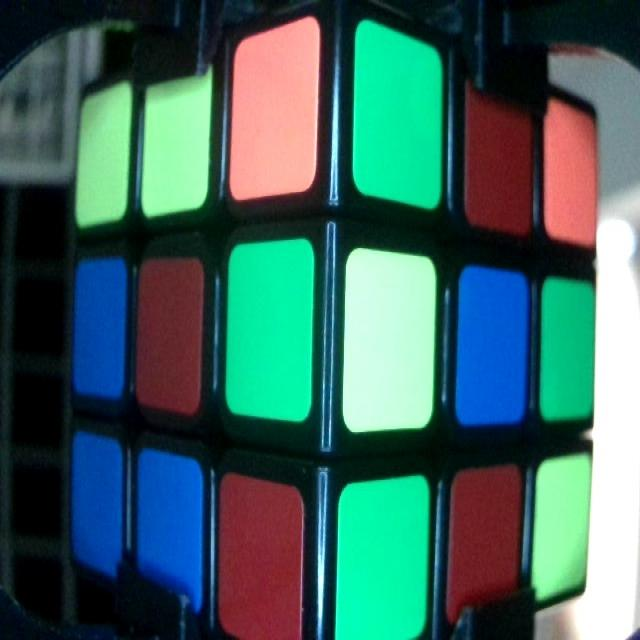b: (464, 271, 526, 421), (138, 455, 200, 598), (75, 441, 119, 568), (77, 265, 120, 392)
g: (356, 32, 442, 197), (229, 251, 312, 410), (341, 495, 426, 633), (544, 282, 592, 417)
o: (236, 50, 314, 183), (547, 102, 596, 245)
r: (221, 487, 300, 638), (469, 72, 530, 232), (454, 478, 517, 608), (142, 265, 198, 402)
y: (351, 258, 433, 417), (146, 81, 207, 197), (540, 472, 586, 584), (82, 101, 123, 216)
